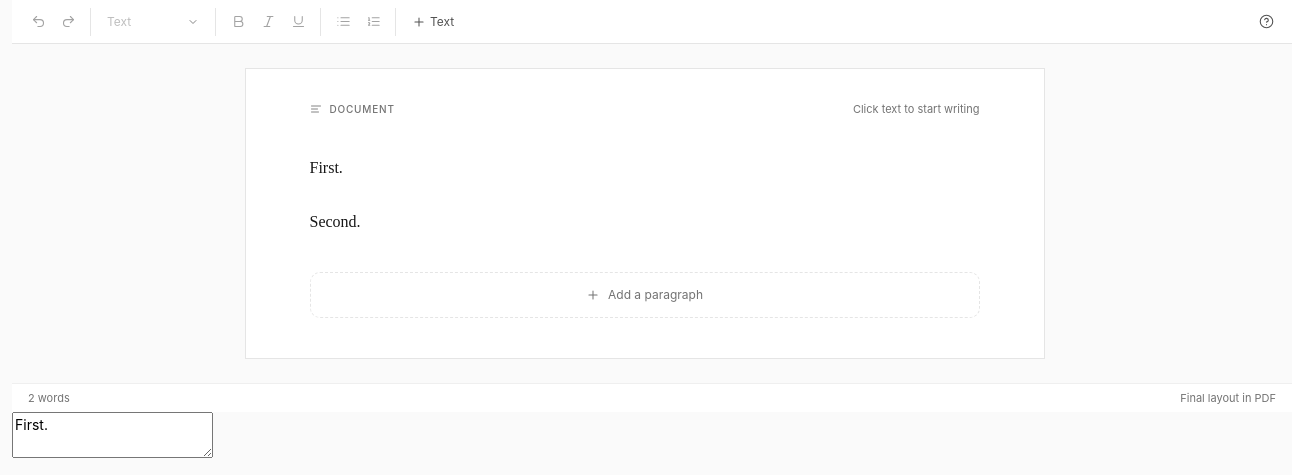
Test case: Visual mode source safety and editing › joins paragraphs with Backspace without removing neighboring content
Focus the field named "Paragraph 2" at (335, 221), box x1=310 y1=213 x2=361 y2=230
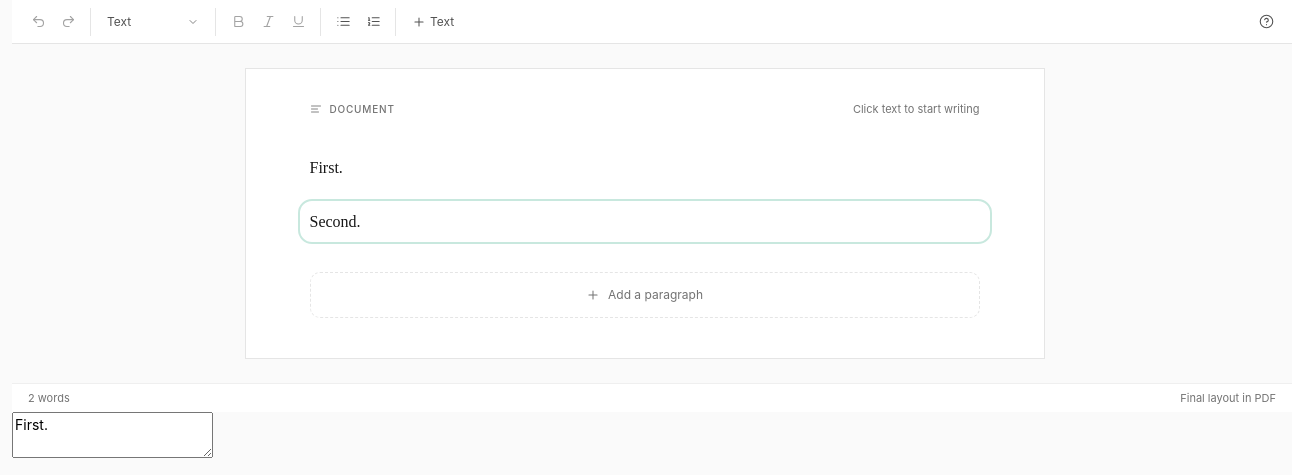
Press Backspace in the field named "Paragraph 2", box x1=302 y1=203 x2=988 y2=240
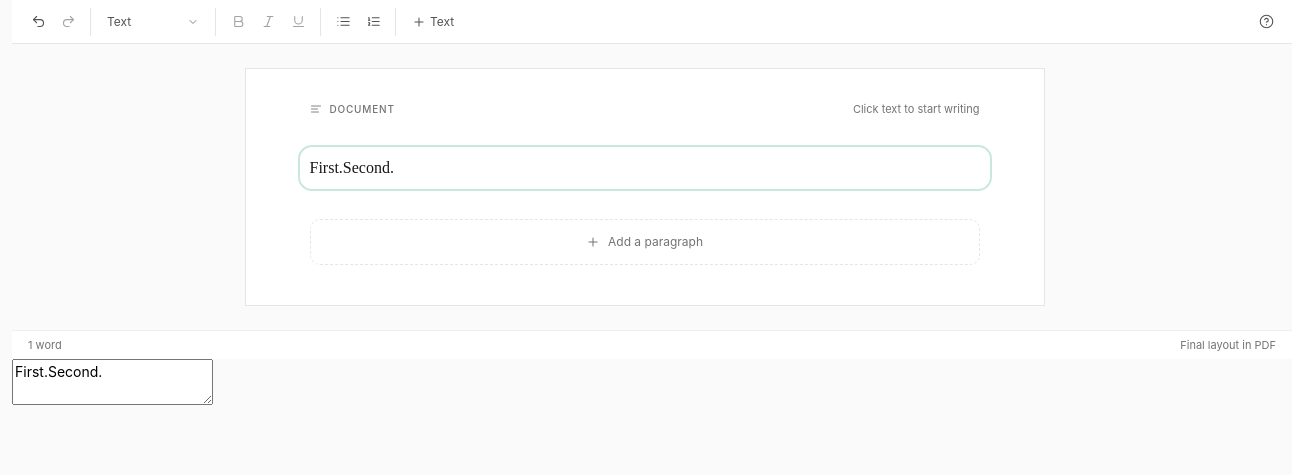
Now the text box named "Buffer" holds "First.Second.", box x1=12 y1=359 x2=213 y2=405
